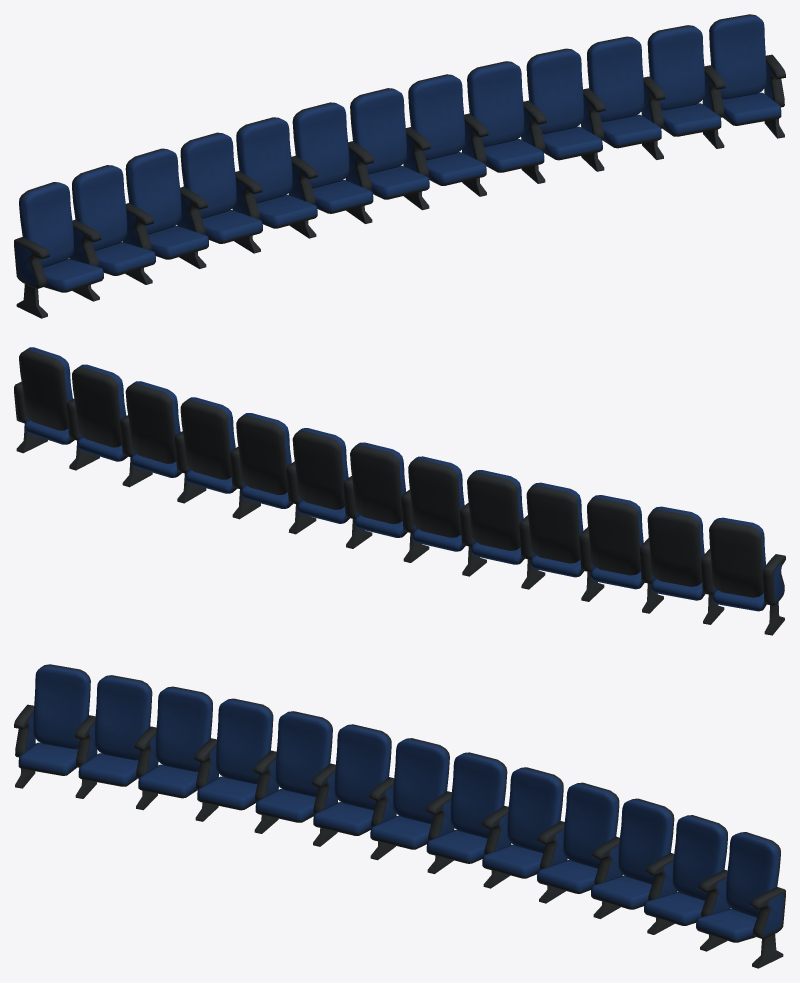
Rendered from CinemaArmChair02a.FBX.
The picture shows the model from 3 angles, top to bottom: view 1: azimuth 30°, elevation 25°; view 2: azimuth 150°, elevation 25°; view 3: azimuth 330°, elevation 25°; orthographic projection.
Parts seen in each view (by area): view 1: CinemaArmChair02a; view 2: CinemaArmChair02a; view 3: CinemaArmChair02a.
Part boxes in pixels (left/top/right/bottom): CinemaArmChair02a: left=14, top=14, right=785, bottom=318; CinemaArmChair02a: left=14, top=347, right=785, bottom=635; CinemaArmChair02a: left=14, top=664, right=785, bottom=968.
Bounding box in the file's own units: 1124 × 154 × 130.
